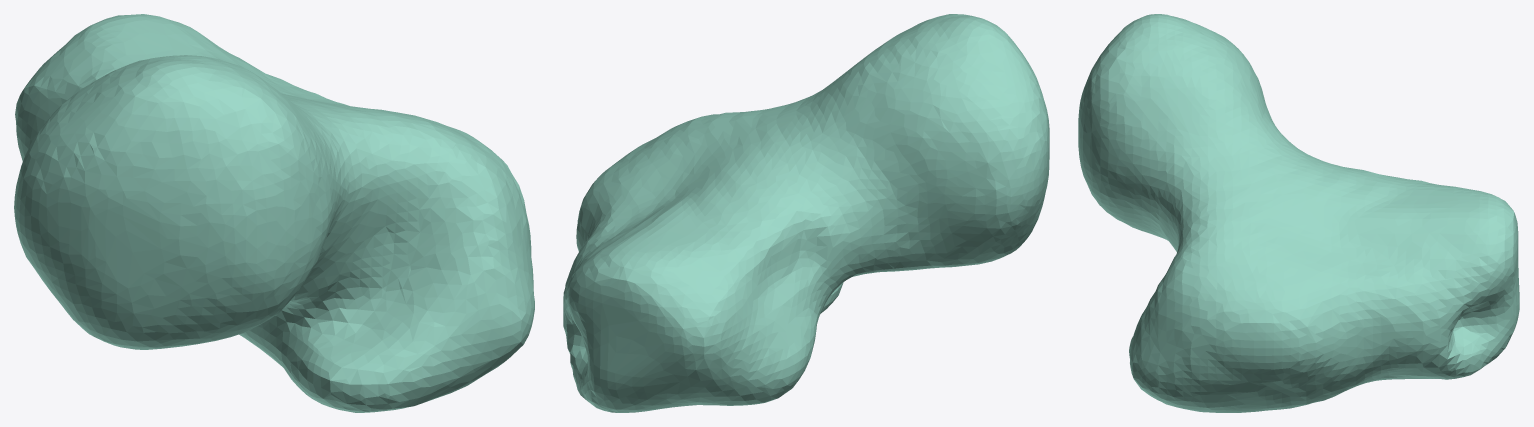
File: ours.glb
3 renders of one model, left to right at view 1: azimuth 30°, elevation 25°; view 2: azimuth 150°, elevation 25°; view 3: azimuth 270°, elevation 25°, orthographic. The views are drawn at different scales.
Parts seen in each view (by area): view 1: world; view 2: world; view 3: world.
Part boxes in pixels (x1,y1,x2,y2): world: (14, 14, 534, 412); world: (563, 14, 1049, 412); world: (1078, 14, 1519, 412).
Size of the model in its own units: 0.8027 by 0.6175 by 0.837.
